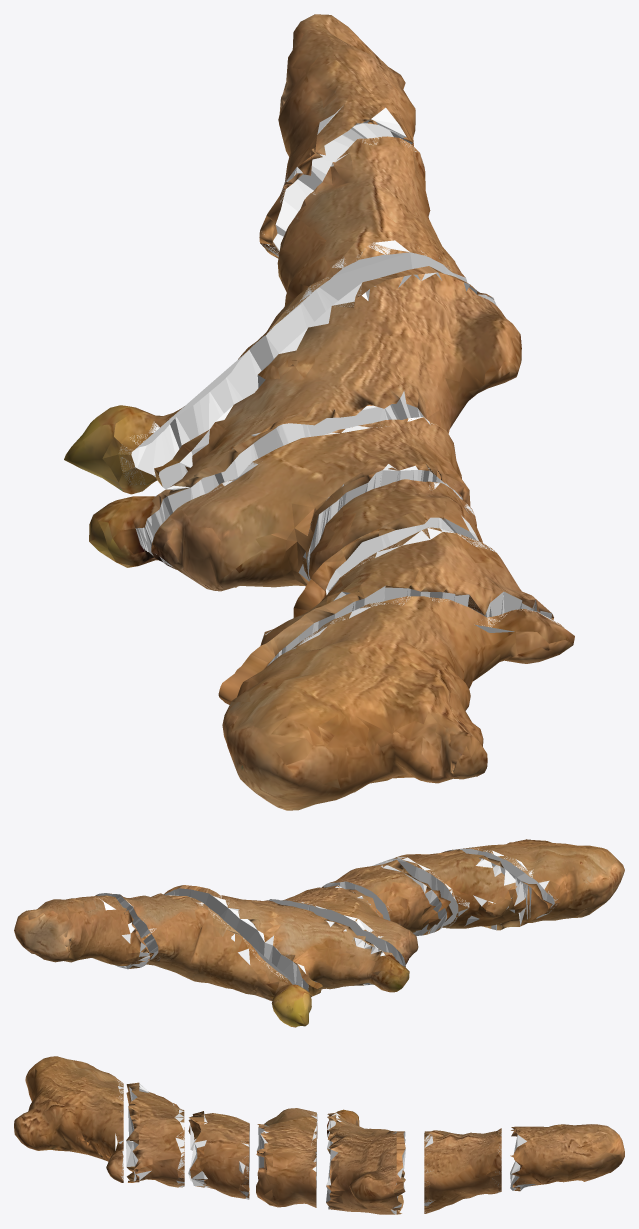
3 renders of one model, top to bottom at view 1: azimuth 30°, elevation 25°; view 2: azimuth 150°, elevation 25°; view 3: azimuth 270°, elevation 25°, orthographic. The views are drawn at different scales.
Visible parts, largest first — view 1: Ginger model.002; view 2: Ginger model.002; view 3: Ginger model.002.
Boxes of the visible parts, left/top/right/bottom form: Ginger model.002: left=64, top=14, right=574, bottom=810; Ginger model.002: left=14, top=839, right=624, bottom=1027; Ginger model.002: left=14, top=1056, right=624, bottom=1214.
Bounding box in the file's own units: 8857 × 3414 × 13894.
